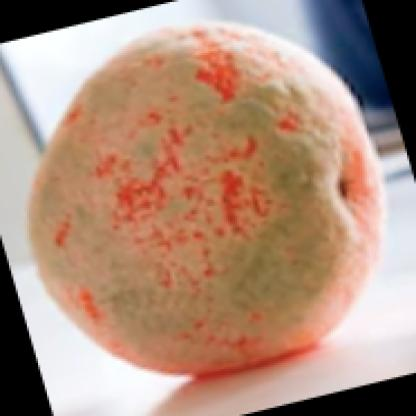rotten: (32, 25, 382, 377)
